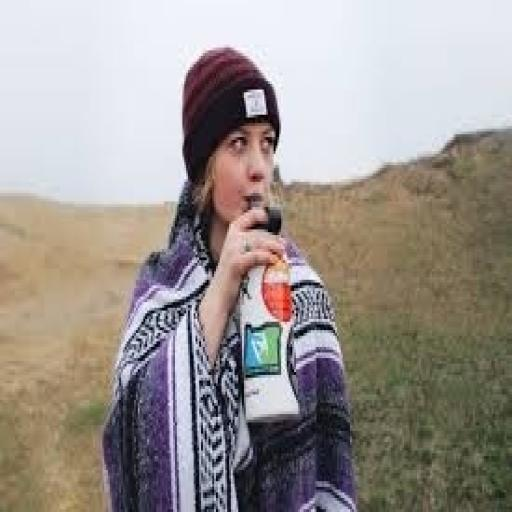drinking: (236, 202, 302, 422)
